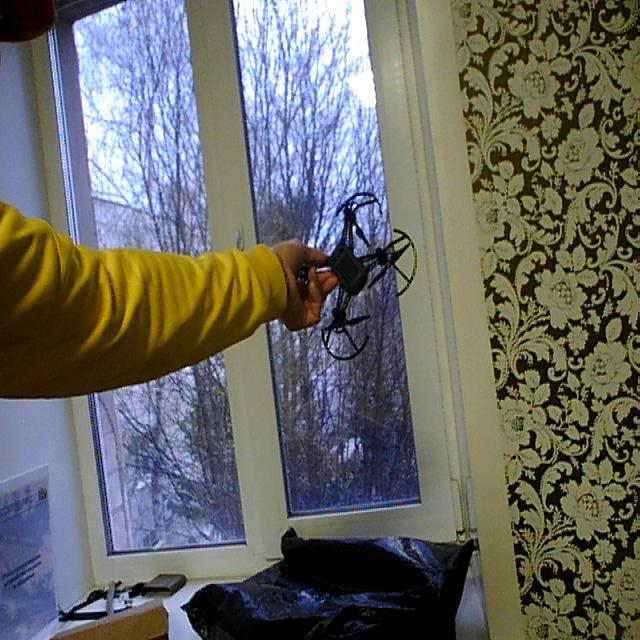drone: (289, 183, 425, 369)
